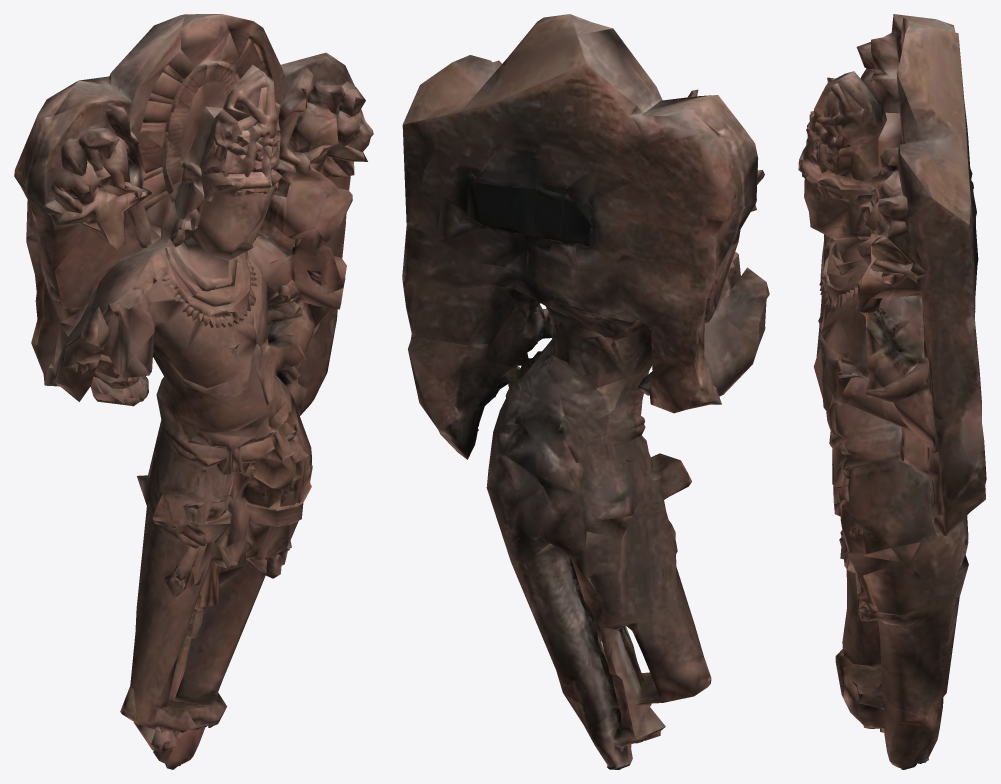
Rendered from shiva-10th-lo.glb.
3 views of the same model, side by side, from view 1: azimuth 30°, elevation 25°; view 2: azimuth 150°, elevation 25°; view 3: azimuth 270°, elevation 25° (orthographic). The views are drawn at different scales.
Visible parts, largest first — view 1: Object_2; view 2: Object_2; view 3: Object_2.
Part boxes in pixels (left/top/right/bottom): Object_2: left=14, top=14, right=373, bottom=769; Object_2: left=402, top=14, right=769, bottom=769; Object_2: left=798, top=14, right=986, bottom=769.
Bounding box in the file's own units: 0.5636 × 1.23 × 0.2769.
1 material, 1 textured.
